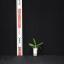leaf: (29, 43, 36, 48), (36, 43, 43, 47), (33, 38, 36, 47), (36, 46, 41, 49), (31, 47, 34, 48)
